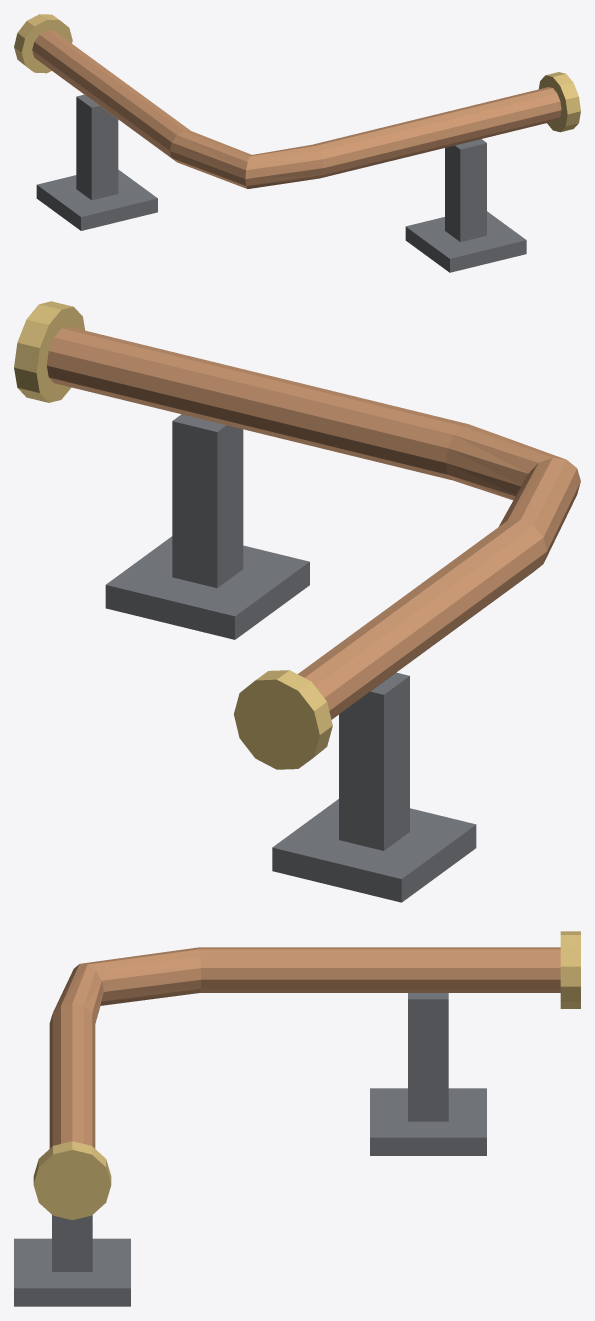
Rendered from steampunk-airship-dock-and-workshop-pipe-run-elbow-9afcca42__36069.glb.
3 views of the same model, one above another, from view 1: azimuth 30°, elevation 25°; view 2: azimuth 150°, elevation 25°; view 3: azimuth 270°, elevation 25° (orthographic). The views are drawn at different scales.
Visible parts, largest first — view 1: pipe-run-elbow; view 2: pipe-run-elbow; view 3: pipe-run-elbow.
Boxes of the visible parts, left/top/right/bottom form: pipe-run-elbow: left=14, top=14, right=580, bottom=272; pipe-run-elbow: left=14, top=301, right=580, bottom=902; pipe-run-elbow: left=14, top=931, right=580, bottom=1306.
Size of the model in its own units: 2.23 by 0.8529 by 2.23.
